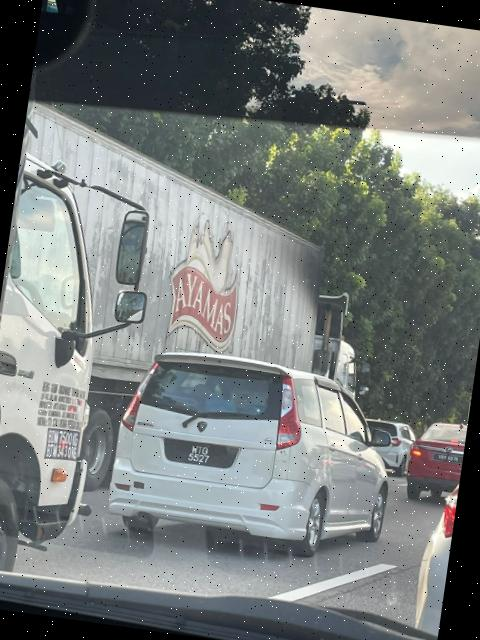License_Plate: (169, 439, 231, 473)
car: (109, 347, 404, 578)
